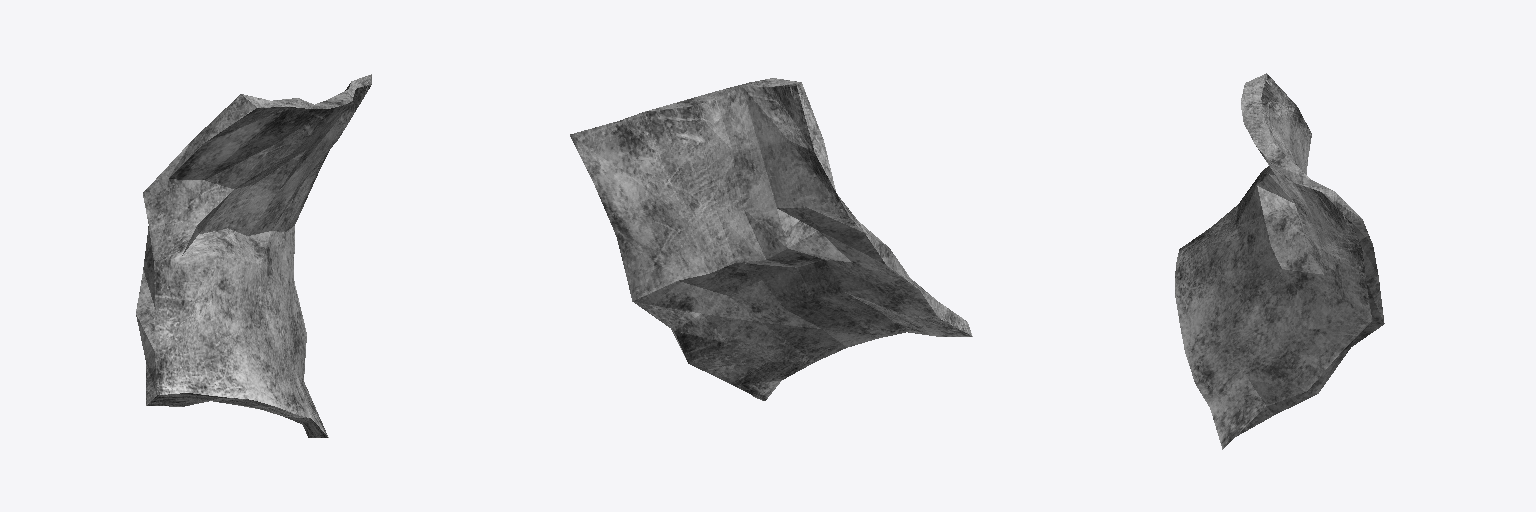
3 renders of one model, left to right at view 1: azimuth 30°, elevation 25°; view 2: azimuth 150°, elevation 25°; view 3: azimuth 270°, elevation 25°, orthographic.
Parts seen in each view (by area): view 1: taule_metal2; view 2: taule_metal2; view 3: taule_metal2.
Part boxes in pixels (x1,y1,x2,y2): taule_metal2: (136,74,371,437); taule_metal2: (570,78,972,400); taule_metal2: (1175,73,1384,449).
Bounding box in the file's own units: 95.52 × 99.89 × 54.99.
1 materials, 1 textured.